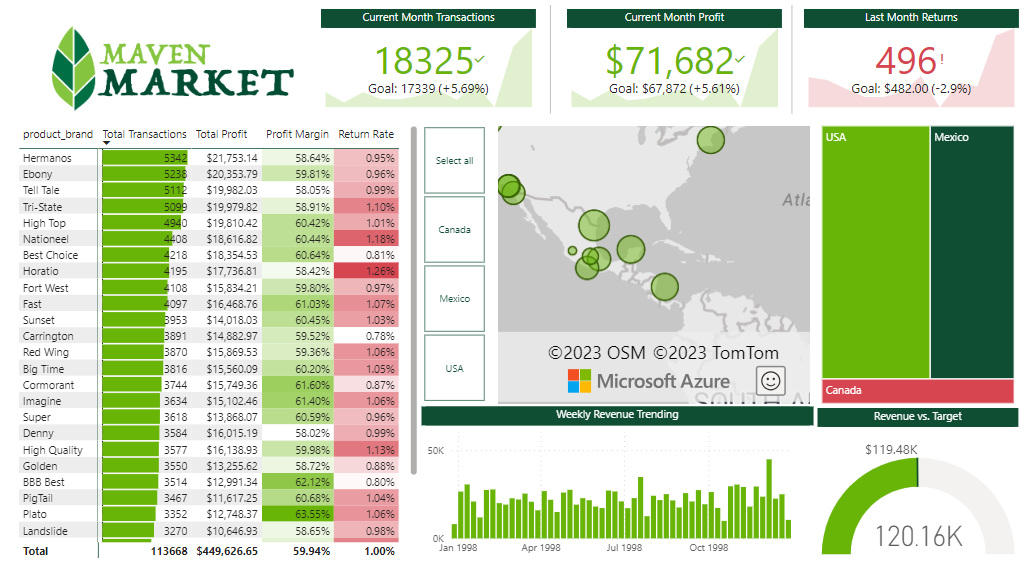

This screenshot's page, from the dashboard's own definition file:
{"tool":"powerbi","page":{"name":"Topline Performance","canvas":[1280,720],"ordinal":0},"visuals":[{"type":"image","box":[50.2,0,323.6,174.7],"z":0},{"type":"pivotTable","fields":{"Rows":["Products.product_brand"],"Values":["Transaction_Data.Total Transactions","Transaction_Data.Total Profit","Transaction_Data.Profit Margin","Return_Data.Return Rate"]},"box":[18.5,153.7,501.9,544.4],"z":1000},{"type":"kpi","title":"Current Month Transactions","fields":{"Indicator":["Transaction_Data.Total Transactions"],"TrendLine":["Calendar.Start of Month"],"Goal":["Transaction_Data.Last Month Transactions"]},"box":[396.4,14.6,265.3,126.2],"z":2000},{"type":"kpi","title":"Current Month Profit","fields":{"TrendLine":["Calendar.Start of Month"],"Indicator":["Transaction_Data.Total Profit"],"Goal":["Transaction_Data.Last Month Profit"]},"box":[700.6,14.6,265.3,126.2],"z":3000},{"type":"kpi","title":"Last Month Returns","fields":{"TrendLine":["Calendar.Start of Month"],"Indicator":["Return_Data.Total Returns"],"Goal":["Return_Data.Last Month Returns"]},"box":[991.8,14.6,265,126.2],"z":4000},{"type":"basicShape","box":[640.7,0,77.7,153.7],"z":5000},{"type":"basicShape","box":[938.4,0,77.7,153.7],"z":6000},{"type":"azureMap","fields":{"Category":["Stores.store_city"],"Size":["Transaction_Data.Total Transactions"]},"box":[610,153.7,394.8,352.7],"z":7000},{"type":"slicer","fields":{"Values":["Stores.store_country"]},"box":[498.1,153.7,124.1,351.9],"z":8000},{"type":"treemap","fields":{"Group":["Stores.store_country","Stores.store_city","Stores.store_state"],"Values":["Transaction_Data.Total Transactions"]},"box":[1009.6,153.7,247.6,352.7],"z":9000},{"type":"columnChart","title":"Weekly Revenue Trending","fields":{"Y":["Transaction_Data.Total Revenue"],"Category":["Calendar.Start of Week"]},"box":[521,506.4,483.8,192.5],"z":10000},{"type":"gauge","title":"Revenue vs. Target","fields":{"TargetValue":["Transaction_Data.Revenue Target"],"Y":["Transaction_Data.Total Revenue"]},"box":[1010,507,248,192],"z":11000}]}

Visuals, with their boxes in screenshot pixels (x1, y1, x2, y2), scaled from the page's 1280x720 canvas onto the 1036x579 screenshot:
image: bbox=[41, 0, 303, 140]
pivotTable - Products.product_brand x Transaction_Data.Total Transactions: bbox=[15, 124, 421, 561]
"Current Month Transactions" kpi: bbox=[321, 12, 536, 113]
"Current Month Profit" kpi: bbox=[567, 12, 782, 113]
"Last Month Returns" kpi: bbox=[803, 12, 1017, 113]
basicShape: bbox=[519, 0, 581, 124]
basicShape: bbox=[760, 0, 822, 124]
azureMap - Stores.store_city x Transaction_Data.Total Transactions: bbox=[494, 124, 813, 407]
slicer - Stores.store_country: bbox=[403, 124, 504, 407]
treemap - Stores.store_country x Stores.store_city: bbox=[817, 124, 1018, 407]
"Weekly Revenue Trending" columnChart: bbox=[422, 407, 813, 562]
"Revenue vs. Target" gauge: bbox=[817, 408, 1018, 562]
